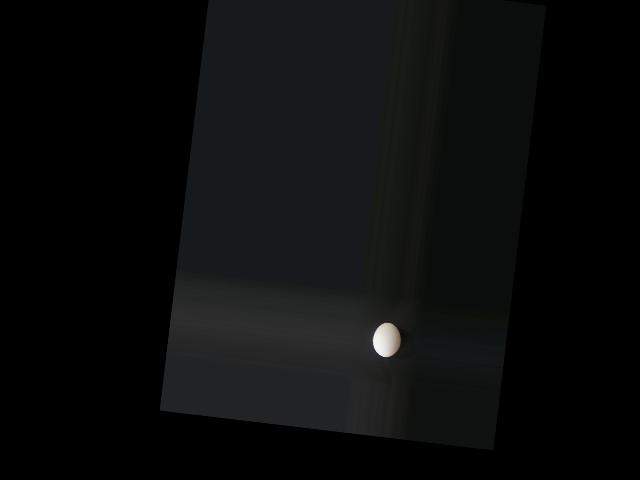egg: (371, 320, 402, 357)
